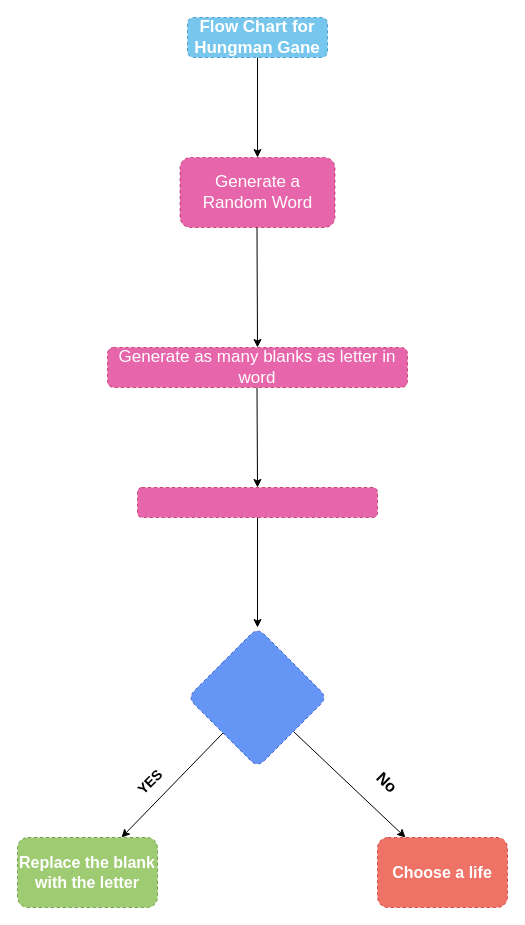
Some shapes in this 525 by 925 pixel diagram are drawn without their labels. Each missing label, with the centre of its shape:
"Ask the User to guess a letter" goes at (x=257, y=502).
"Is the guessed letter in the word?" goes at (x=257, y=697).
